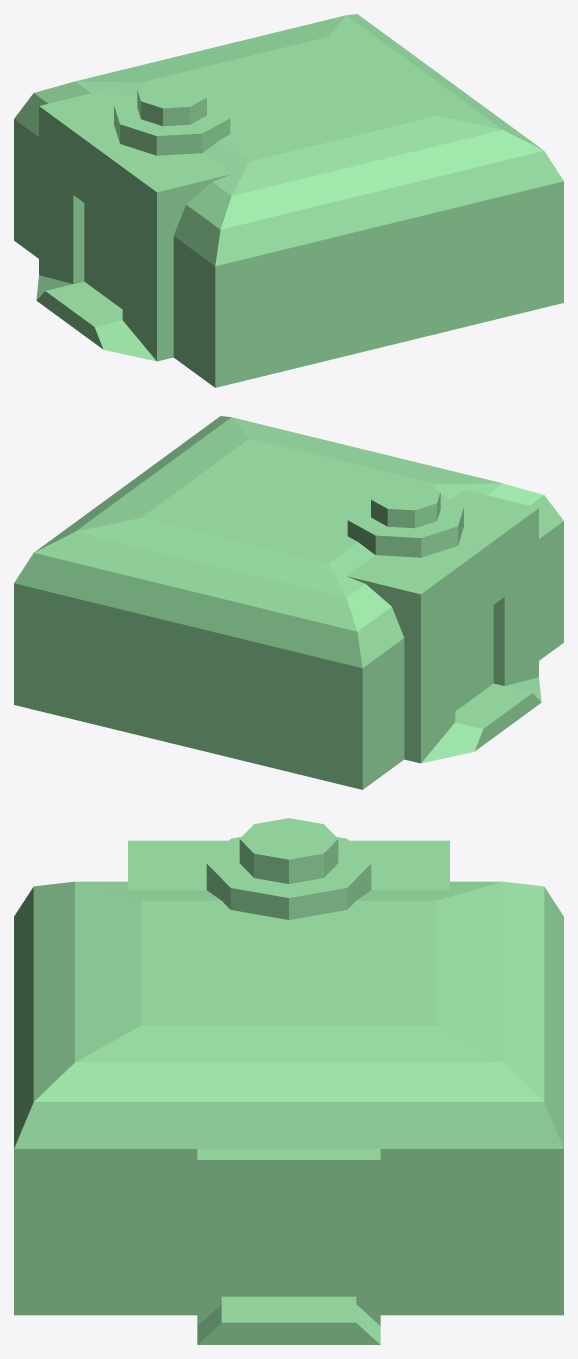
File: refinery.fbx
3 views of the same model, one above another, from view 1: azimuth 30°, elevation 25°; view 2: azimuth 150°, elevation 25°; view 3: azimuth 270°, elevation 25° (orthographic). The views are drawn at different scales.
Visible parts, largest first — view 1: RefineryMesh; view 2: RefineryMesh; view 3: RefineryMesh.
Part boxes in pixels (left/top/right/bottom): RefineryMesh: left=14, top=14, right=563, bottom=387; RefineryMesh: left=14, top=416, right=563, bottom=789; RefineryMesh: left=14, top=818, right=563, bottom=1344.
Bounding box in the file's own units: 377 × 170 × 300.
